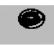correct: (13, 7, 50, 32)
